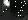person: (4, 2, 11, 15)
